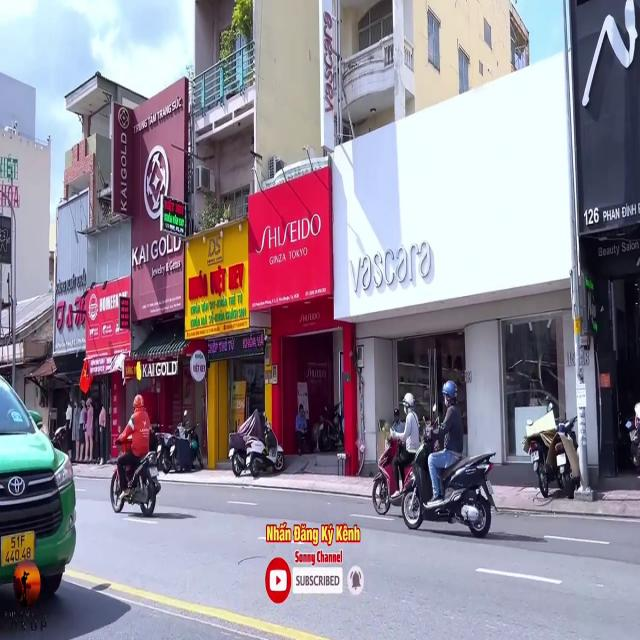bien_vang: (0, 530, 37, 567)
